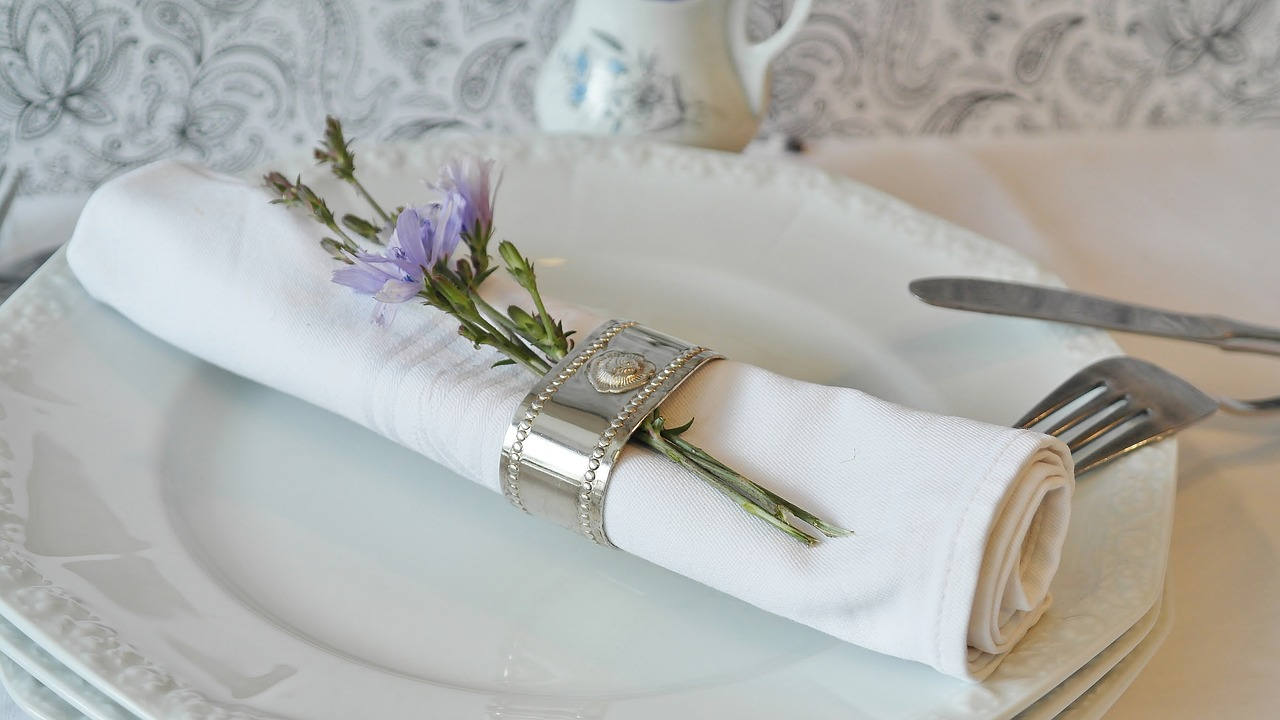knife: (909, 266, 1280, 363)
